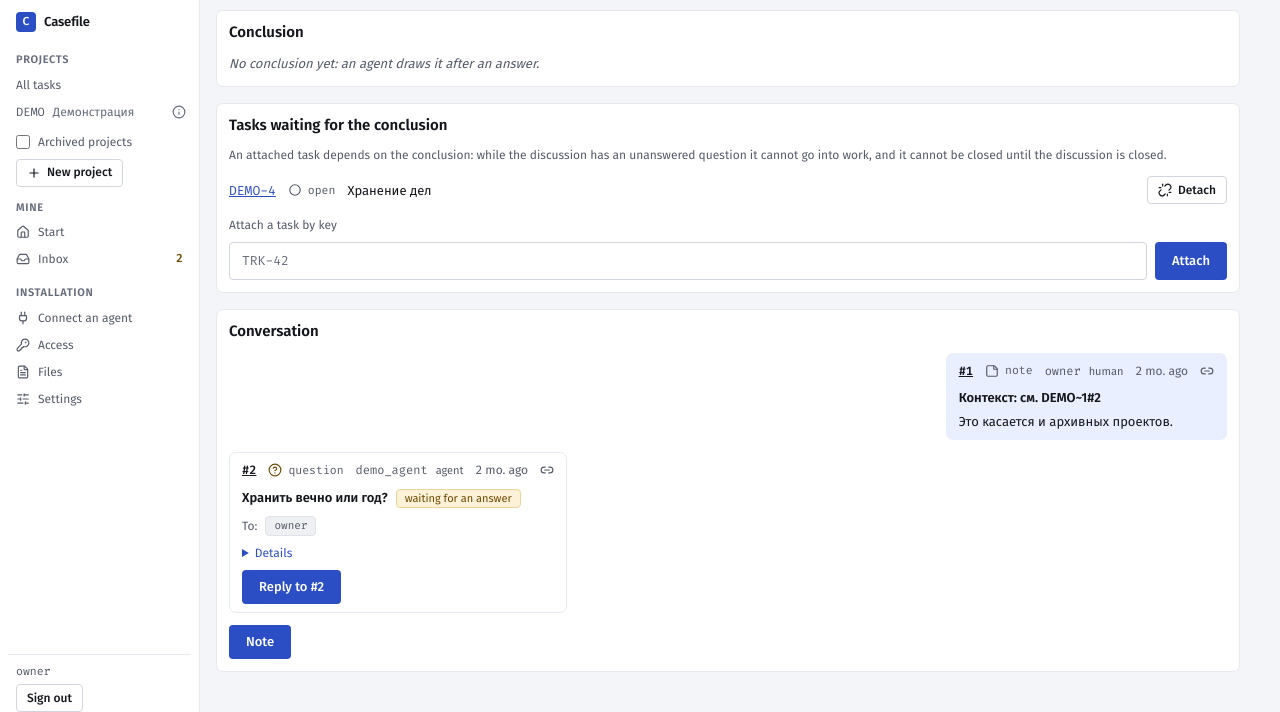
экран обсуждения › варианты ответа (TRK-720) › у вопроса без вариантов карточек нет
The image size is (1280, 712).
(page scrolled)
Click the button "Reply to #2" at (292, 587), box [242,570,341,604]
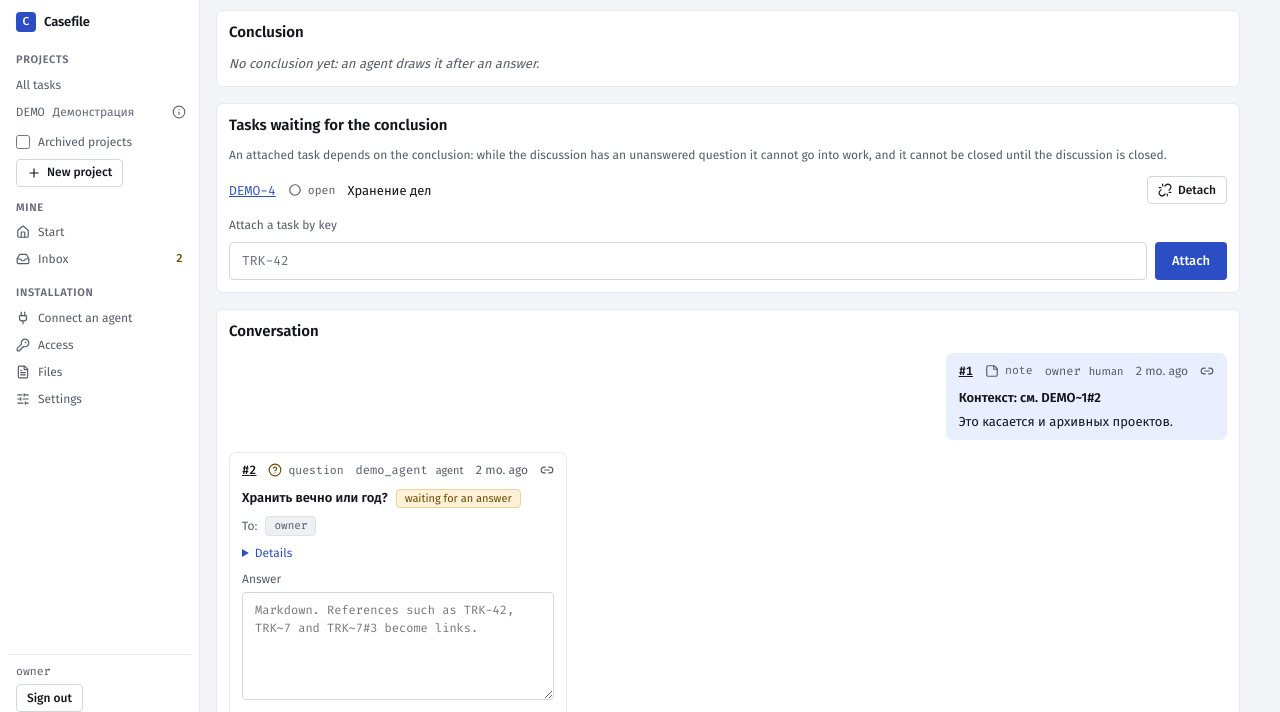
Now the text box labelled "Answer" is shown, box [242,592,554,700]
